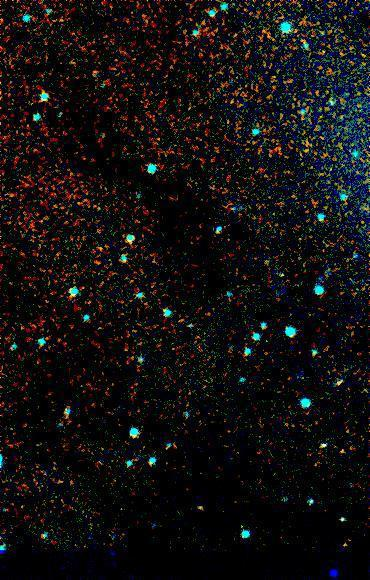star: (327, 437, 357, 467)
